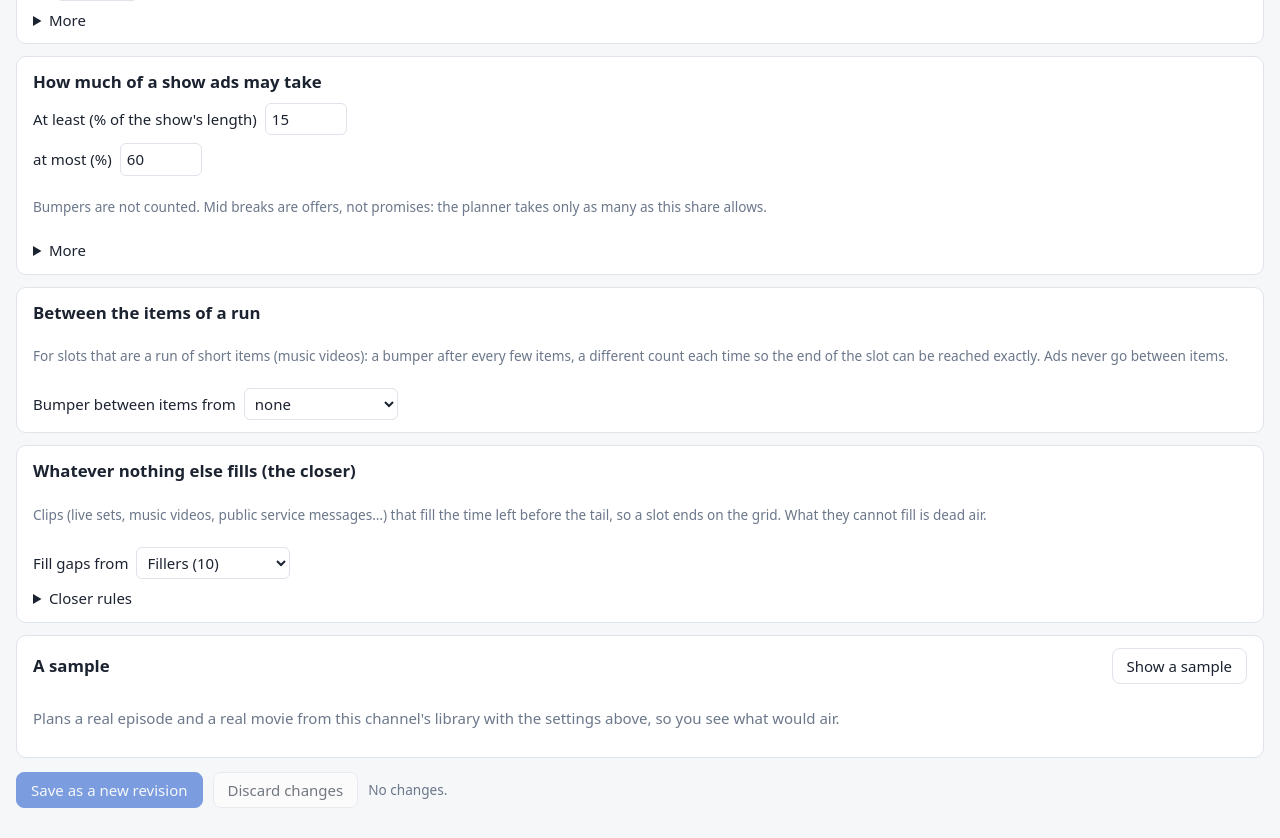
it: the ads page › shows a sample drawn from the real planner, says when it is out of date, and keeps a table
This screenshot has width=1280, height=838.
(page scrolled)
Click the button "Show a sample" at (1179, 666), box left=1112, top=648, right=1247, bottom=684
(page scrolled)
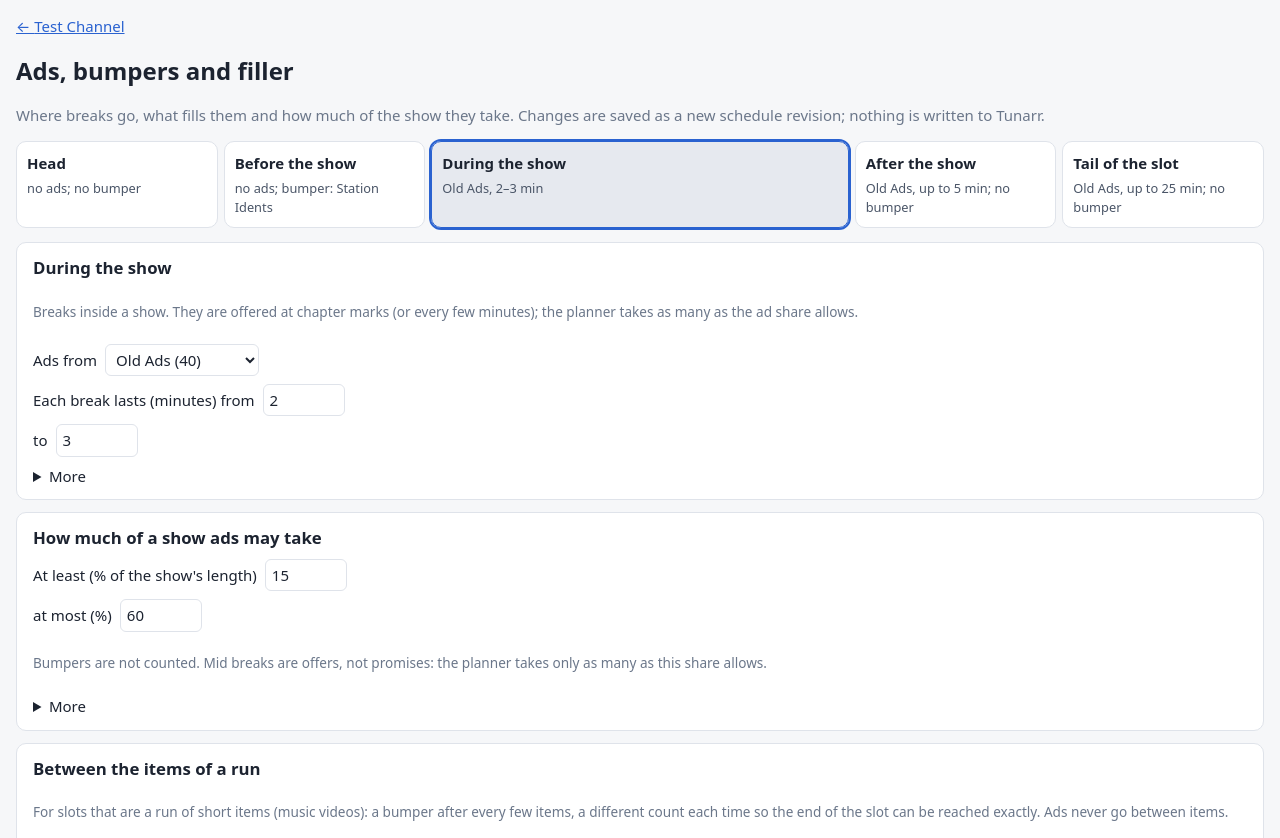
Check: the text "settings changed since this sample" is not shown
Click the button "Head no ads; no bumper" at (117, 185), box left=16, top=141, right=218, bottom=228
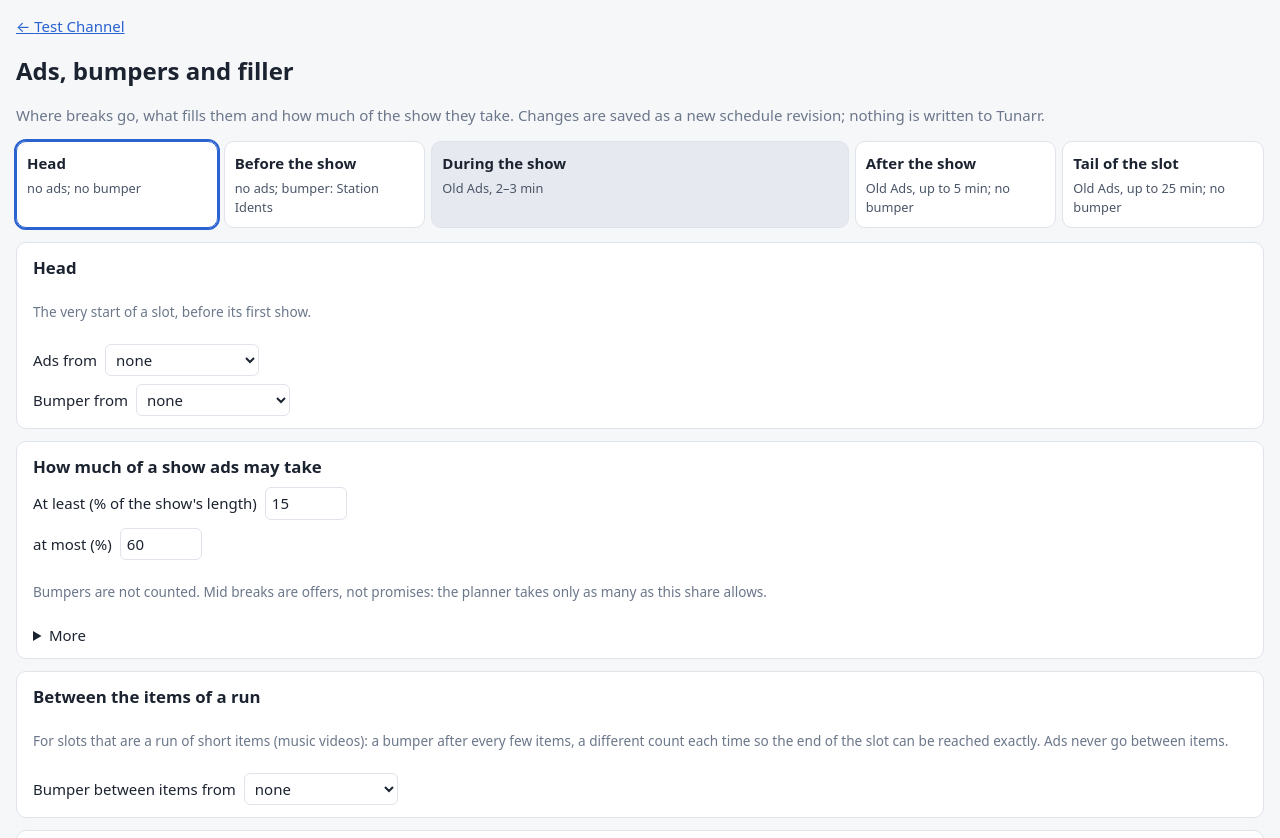
Select "Station Idents (6)" in the dropdown labelled "Bumper from" at (213, 400), box left=136, top=384, right=290, bottom=416
(page scrolled)
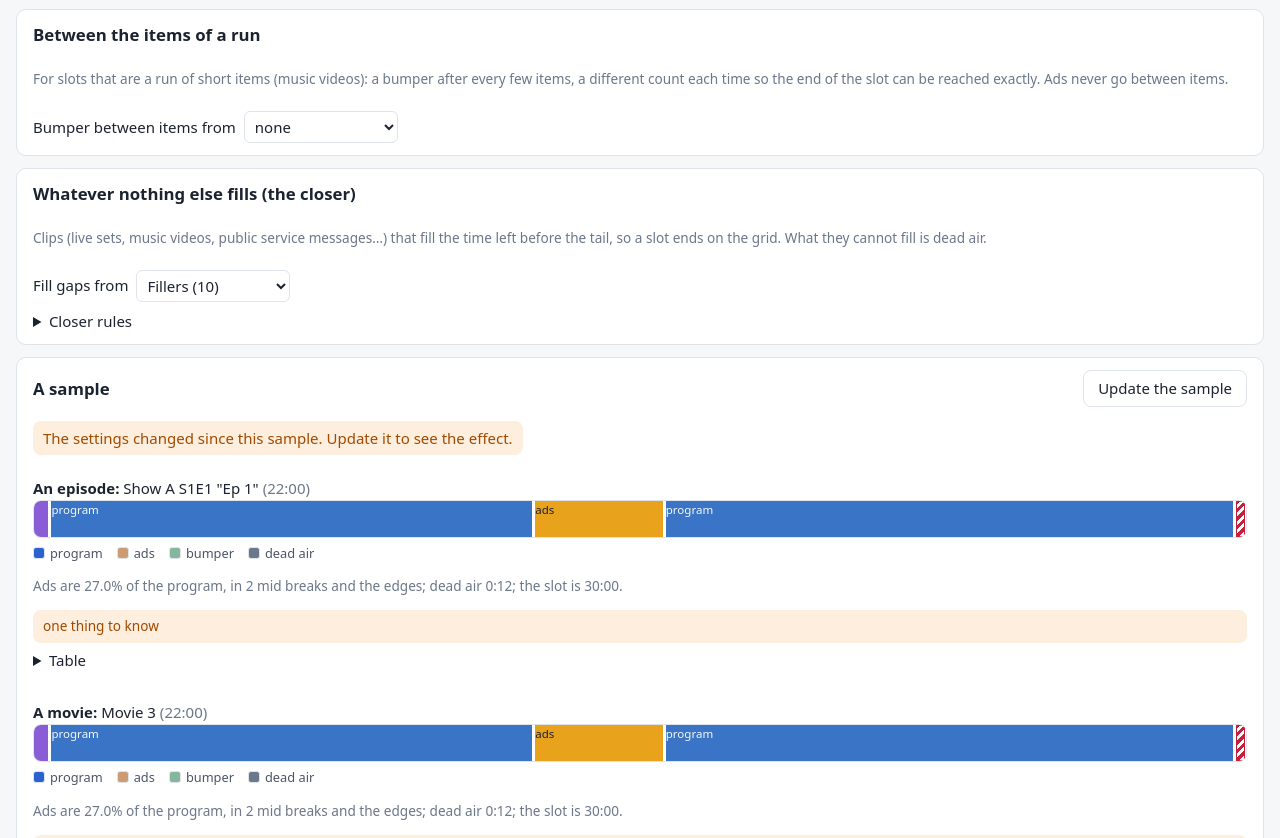
Check: the button "Update the sample" is shown, box left=1083, top=370, right=1247, bottom=407
Check: the text "settings changed since this sample" is shown, box left=43, top=428, right=513, bottom=448
